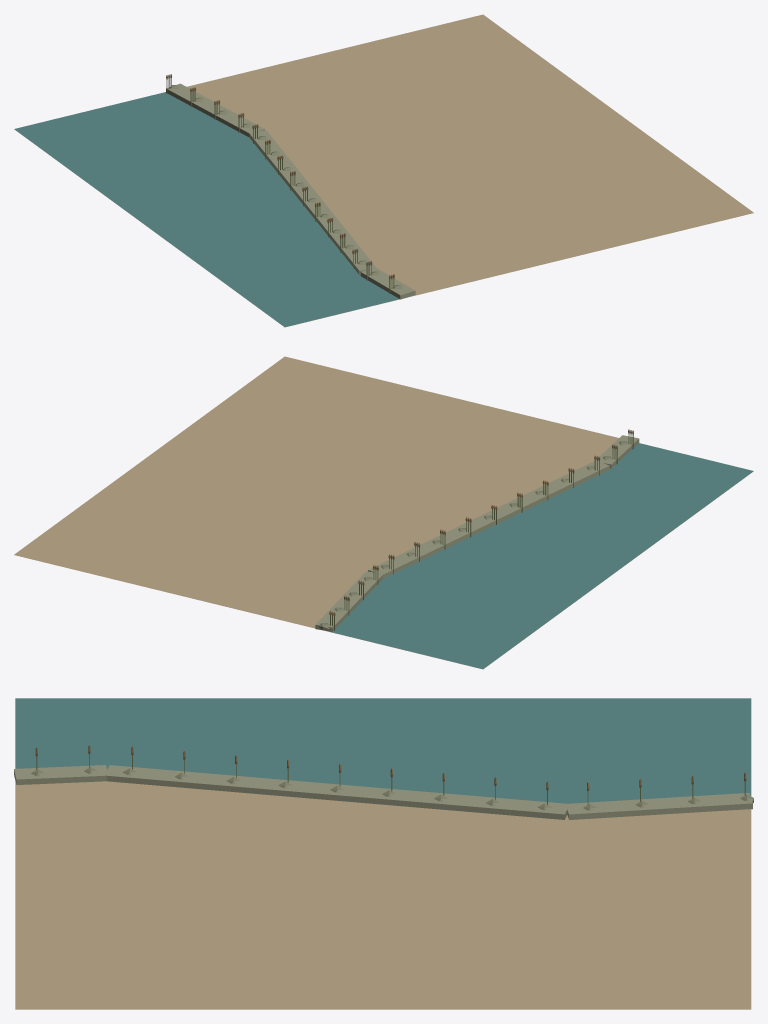
File: city-boundary--2_0.glb
3 renders of one model, top to bottom at view 1: azimuth 30°, elevation 25°; view 2: azimuth 150°, elevation 25°; view 3: azimuth 270°, elevation 25°, orthographic. The views are drawn at different scales.
Parts seen in each view (by area): view 1: city-boundary--2_0; view 2: city-boundary--2_0; view 3: city-boundary--2_0.
Boxes of the visible parts, x1,y1,x2,y2 form: city-boundary--2_0: (14,14,753,327); city-boundary--2_0: (14,356,753,669); city-boundary--2_0: (14,698,753,1009).
Bounding box in the file's own units: 32 × 1.24 × 32.17.
